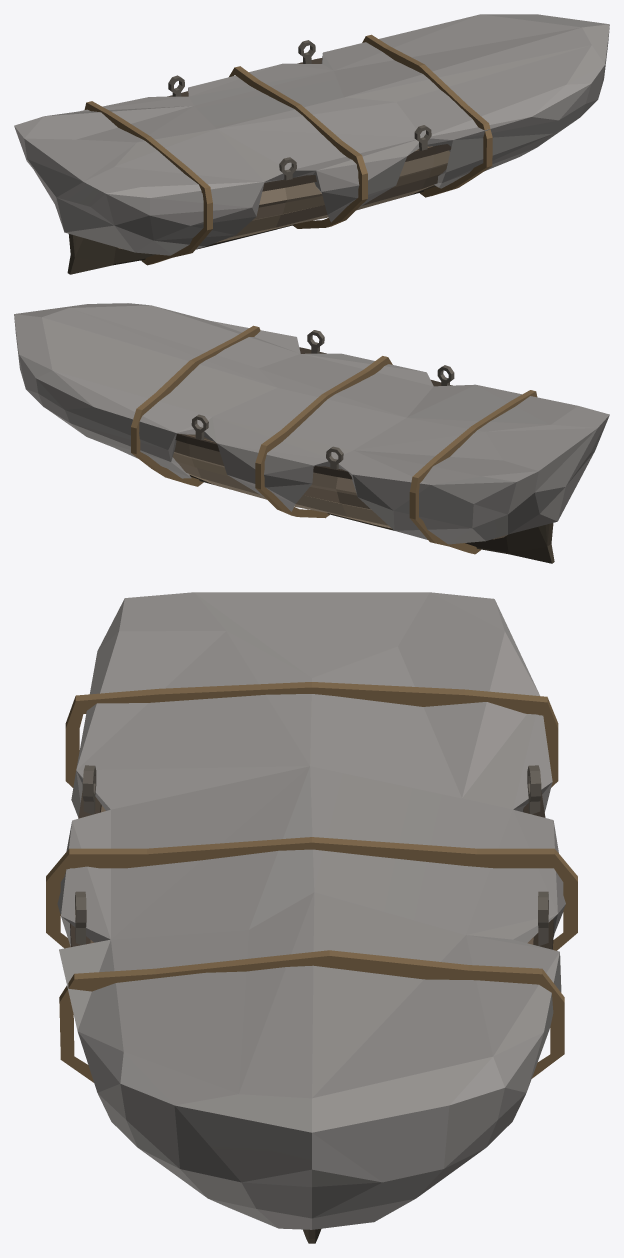
Rendered from SM_Prop_Liferaft_01.glb.
3 views of the same model, one above another, from view 1: azimuth 30°, elevation 25°; view 2: azimuth 150°, elevation 25°; view 3: azimuth 270°, elevation 25° (orthographic). The views are drawn at different scales.
Parts seen in each view (by area): view 1: SM_Prop_Liferaft_01; view 2: SM_Prop_Liferaft_01; view 3: SM_Prop_Liferaft_01.
Part boxes in pixels (bbox=[...]): SM_Prop_Liferaft_01: bbox=[14, 14, 609, 274]; SM_Prop_Liferaft_01: bbox=[14, 303, 609, 563]; SM_Prop_Liferaft_01: bbox=[46, 592, 577, 1243].
Size of the model in its own units: 0.0521 by 0.0116 by 0.0217.
